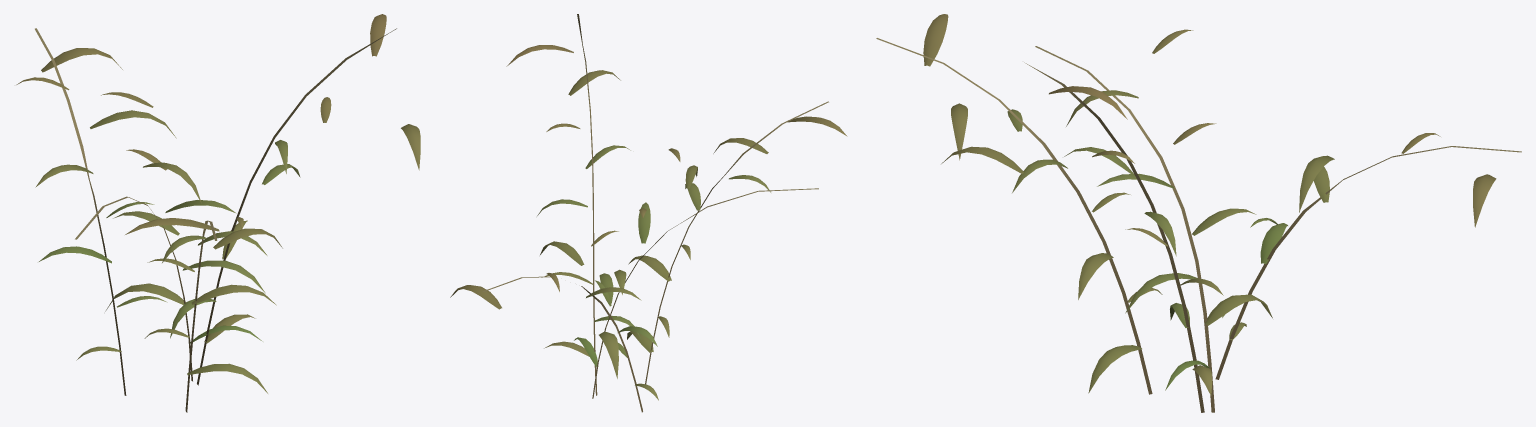
File: pondweed_2.glb
The picture shows the model from 3 angles, left to right: view 1: azimuth 30°, elevation 25°; view 2: azimuth 150°, elevation 25°; view 3: azimuth 270°, elevation 25°; orthographic projection. The views are drawn at different scales.
Parts seen in each view (by area): view 1: pondweed_2; view 2: pondweed_2; view 3: pondweed_2.
Part boxes in pixels (x1,y1,x2,y2): pondweed_2: [16, 14, 420, 412]; pondweed_2: [450, 14, 847, 412]; pondweed_2: [876, 14, 1521, 412].
Bounding box in the file's own units: 0.7112 × 0.7569 × 1.08.
